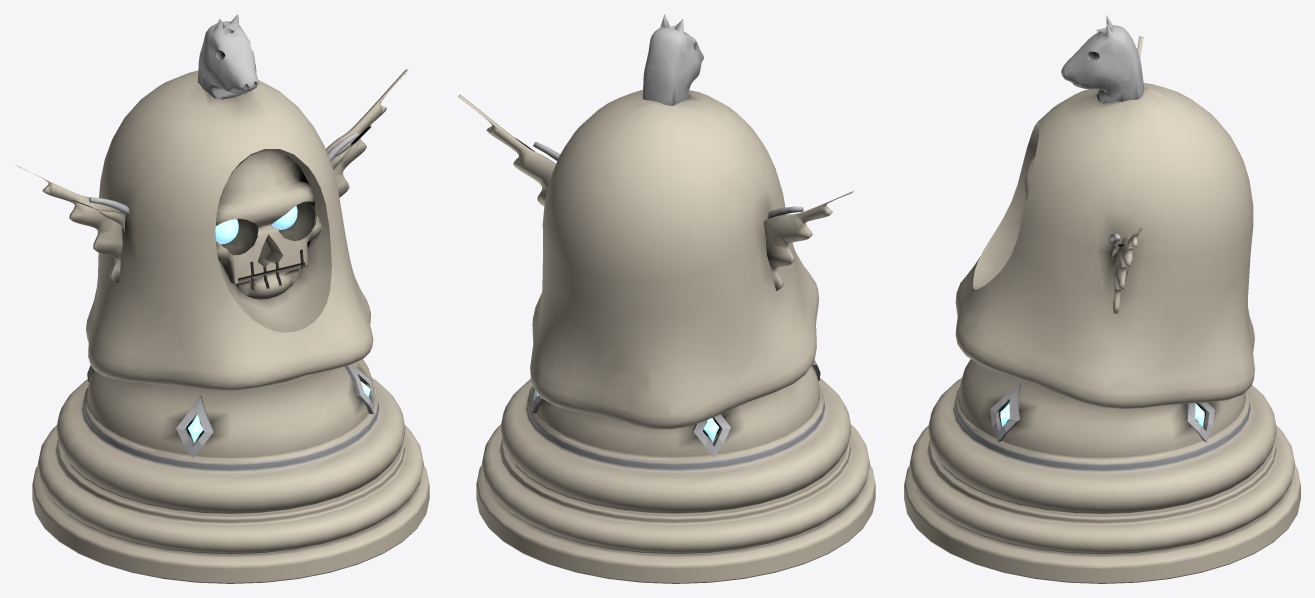
Rendered from outrider.glb.
The picture shows the model from 3 angles, left to right: view 1: azimuth 30°, elevation 25°; view 2: azimuth 150°, elevation 25°; view 3: azimuth 270°, elevation 25°; orthographic projection.
Parts seen in each view (by area): view 1: outrider; view 2: outrider; view 3: outrider.
Boxes of the visible parts, x1,y1,x2,y2 form: outrider: [15, 14, 429, 583]; outrider: [458, 14, 875, 583]; outrider: [904, 14, 1300, 583].
Size of the model in its own units: 0.8212 by 0.966 by 0.72.
